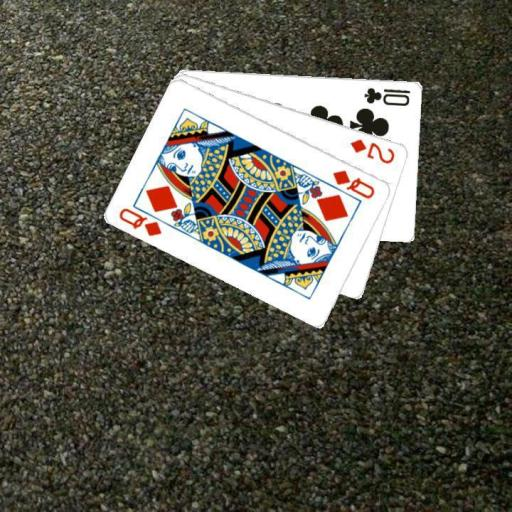card-corner: (329, 166, 377, 200), (116, 204, 164, 238), (348, 136, 397, 165), (362, 84, 412, 107)
